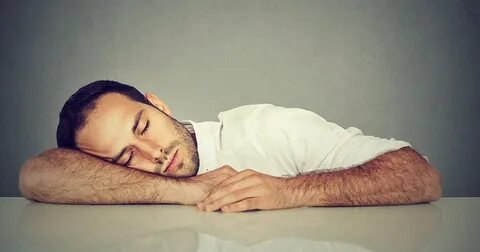sleep: (18, 79, 444, 216)
